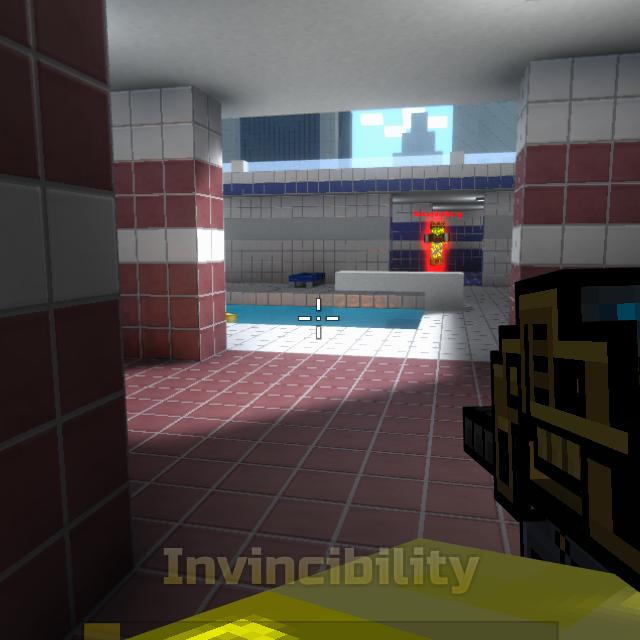Enemy: (425, 221, 450, 266)
